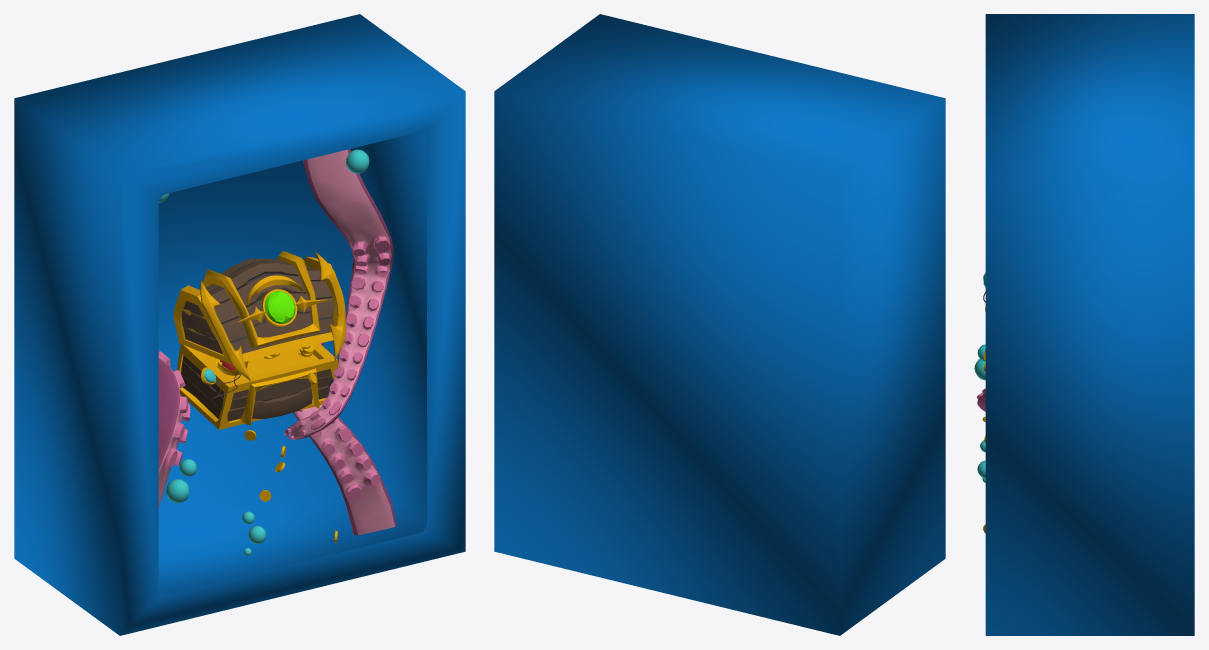
The model's file is 19_OceanTreasure.gltf.
3 views of the same model, side by side, from view 1: azimuth 30°, elevation 25°; view 2: azimuth 150°, elevation 25°; view 3: azimuth 270°, elevation 25° (orthographic).
Visible parts, largest first — view 1: 19_OceanTreasure_bg, 19_OceanTreasure; view 2: 19_OceanTreasure_bg; view 3: 19_OceanTreasure_bg, 19_OceanTreasure.
Part boxes in pixels (x1,y1,x2,y2): 19_OceanTreasure_bg: (14,14,465,635); 19_OceanTreasure: (158,149,396,555); 19_OceanTreasure_bg: (494,14,945,635); 19_OceanTreasure_bg: (985,14,1194,635); 19_OceanTreasure: (974,273,985,533).
Bounding box in the file's own units: 2.76 × 3.51 × 1.54.
Materials: 1 (1 with a texture image).
